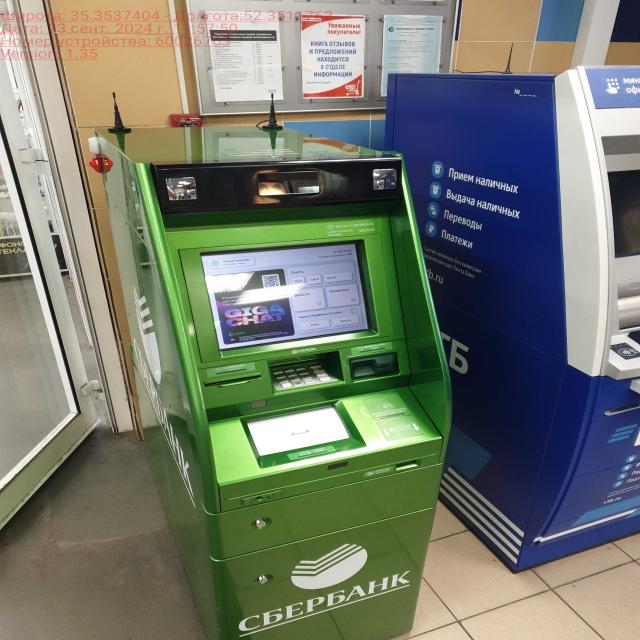bank: (91, 117, 467, 640)
